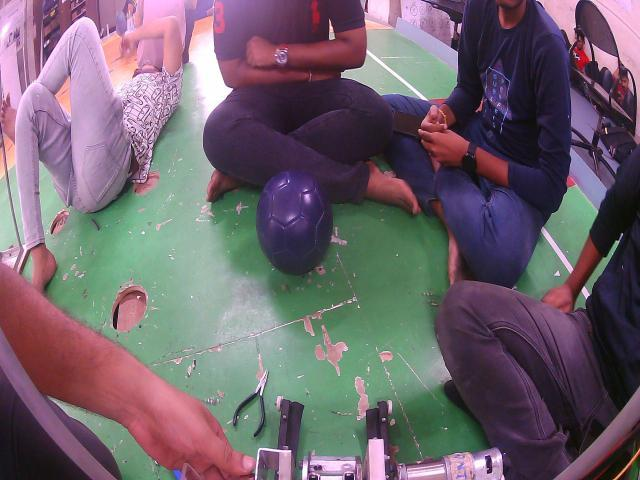kaalyya: (256, 170, 332, 275)
